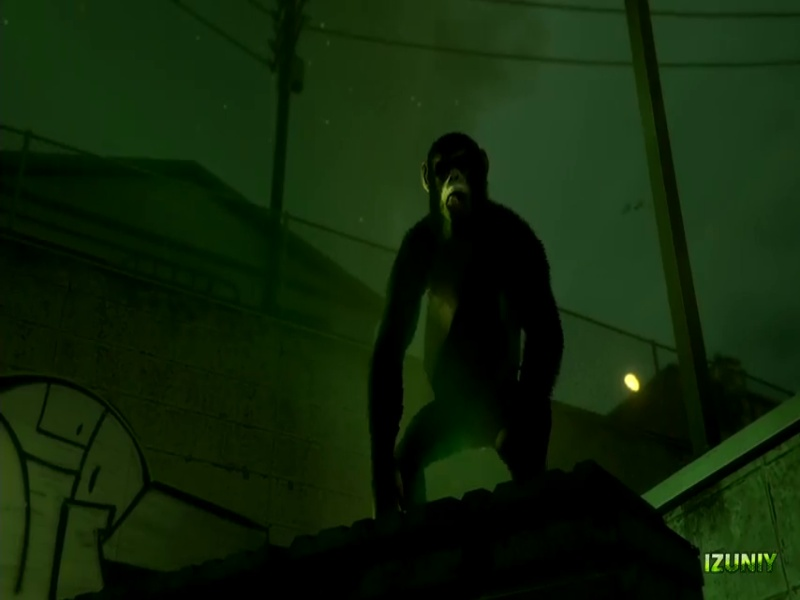human: (372, 127, 567, 511)
